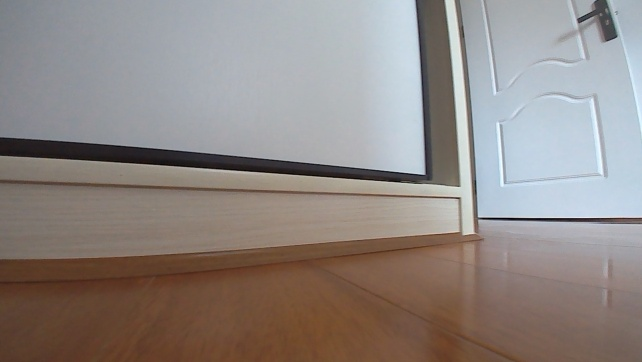door_anno: (457, 0, 641, 226)
